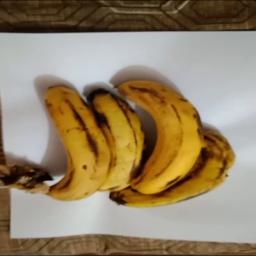Banana Semifresh: (115, 70, 234, 209), (6, 75, 115, 203), (92, 75, 144, 202)
